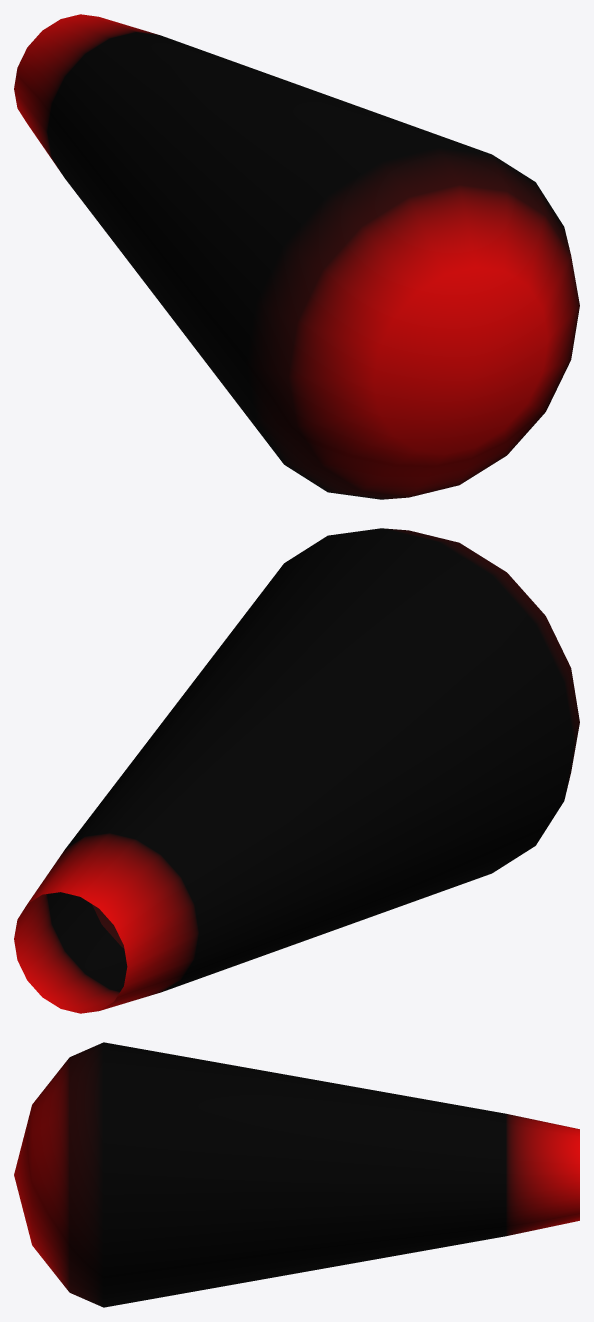
The model's file is SM_Light_Stand_Cone.FBX.
The picture shows the model from 3 angles, top to bottom: view 1: azimuth 30°, elevation 25°; view 2: azimuth 150°, elevation 25°; view 3: azimuth 270°, elevation 25°; orthographic projection. The views are drawn at different scales.
Parts seen in each view (by area): view 1: Cylinder627; view 2: Cylinder627; view 3: Cylinder627.
Part boxes in pixels (<box>): Cylinder627: <box>14,14,579,499</box>; Cylinder627: <box>14,528,579,1013</box>; Cylinder627: <box>14,1042,579,1307</box>.
Bounding box in the file's own units: 150 × 148 × 319.
